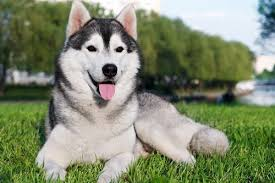Siberian Husky: (17, 2, 227, 178)
